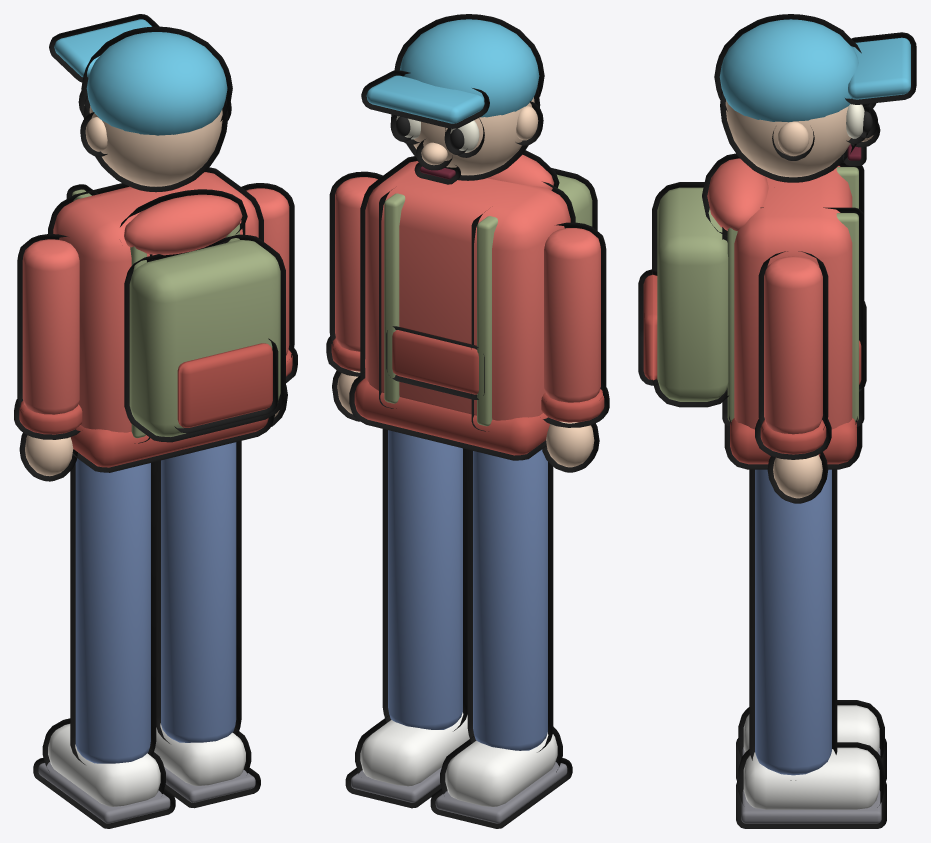
The model's file is player_model.glb.
3 renders of one model, left to right at view 1: azimuth 30°, elevation 25°; view 2: azimuth 150°, elevation 25°; view 3: azimuth 270°, elevation 25°, orthographic.
Visible parts, largest first — view 1: Torso, LegR, LegL, Head, ArmR, ArmL; view 2: Torso, LegR, LegL, Head, ArmR, ArmL; view 3: Torso, LegL, Head, ArmL, LegR.
Part boxes in pixels (<box>): Torso: <box>48,167,285,472</box>; LegR: <box>33,458,175,828</box>; LegL: <box>154,441,260,808</box>; Head: <box>49,14,232,192</box>; ArmR: <box>14,234,82,481</box>; ArmL: <box>241,183,297,426</box>; Torso: <box>349,150,597,460</box>; LegR: <box>430,449,572,828</box>; LegL: <box>345,429,469,808</box>; Head: <box>361,14,544,184</box>; ArmR: <box>541,222,609,472</box>; ArmL: <box>326,171,382,421</box>; Torso: <box>638,153,866,469</box>; LegL: <box>736,469,886,828</box>; Head: <box>714,14,916,182</box>; ArmL: <box>755,251,831,503</box>; LegR: <box>736,700,886,781</box>.
Size of the model in its own units: 0.7088 by 1.87 by 0.6134.
